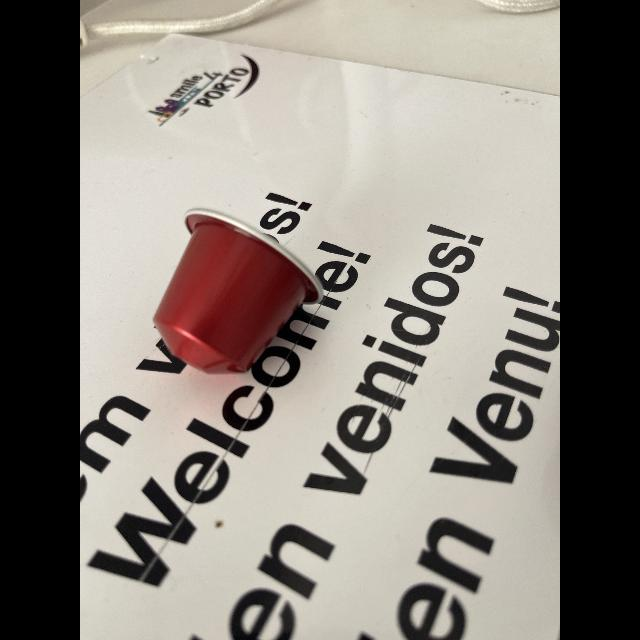intact_capsule: (144, 202, 330, 382)
